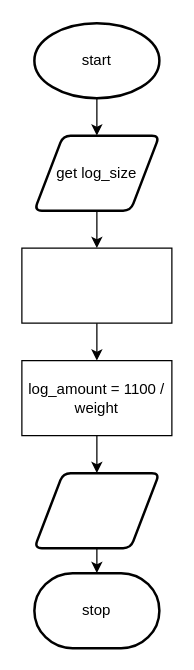
Image size: 194x670. Some labels were removed from this diagram. Each missing label, with the box of its shape:
print log_amount: (32, 471, 160, 549)
weight= log_size * 20: (21, 247, 172, 323)
